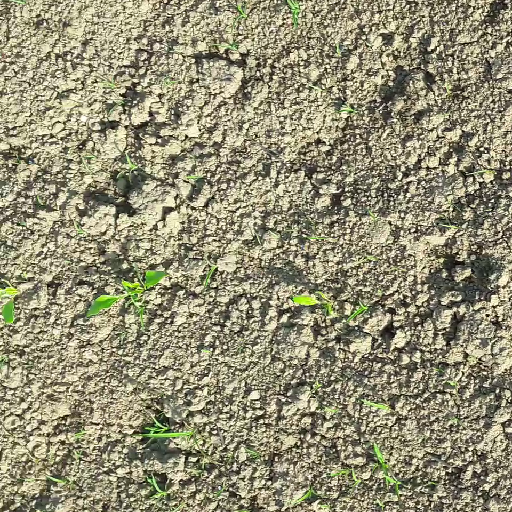sugarbeet: (90, 264, 167, 320), (290, 288, 335, 319), (1, 282, 21, 324)
weed: (134, 411, 201, 452), (371, 441, 406, 500), (287, 484, 330, 512), (326, 465, 365, 490), (129, 297, 150, 332), (144, 473, 169, 500), (346, 297, 369, 322), (365, 401, 398, 417), (282, 1, 301, 28), (203, 261, 219, 292), (42, 474, 75, 488), (120, 155, 137, 178), (206, 41, 240, 52), (235, 5, 248, 26), (470, 165, 490, 178), (69, 450, 86, 464), (334, 105, 359, 114), (245, 446, 261, 458), (321, 404, 345, 412), (158, 78, 173, 89), (179, 173, 201, 180), (70, 431, 85, 440), (304, 235, 325, 241), (106, 79, 116, 91), (313, 380, 321, 391)
